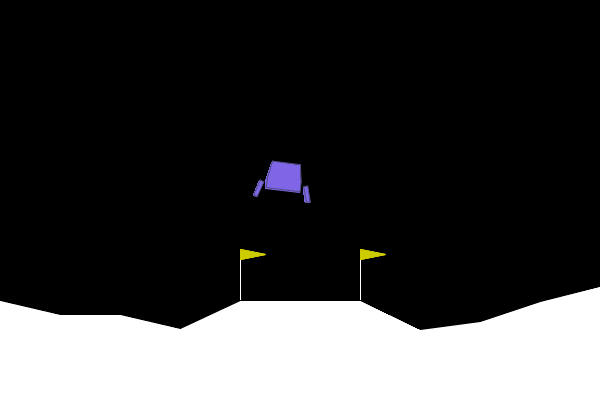lander: (252, 158, 316, 205)
